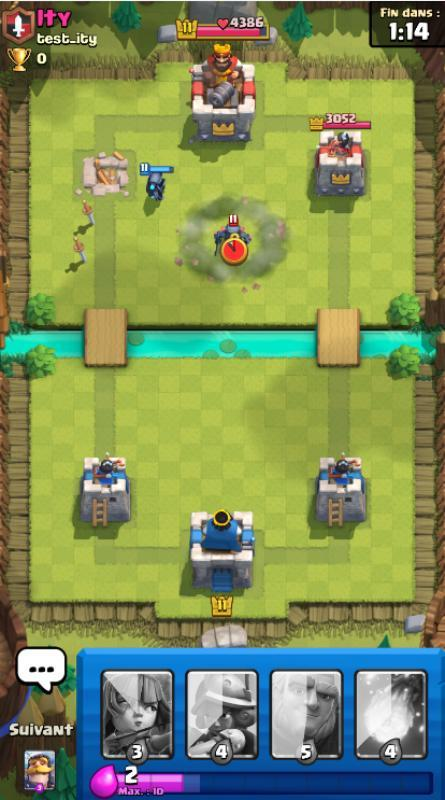mini_PEKKA: (213, 213, 252, 257), (140, 162, 176, 202)
